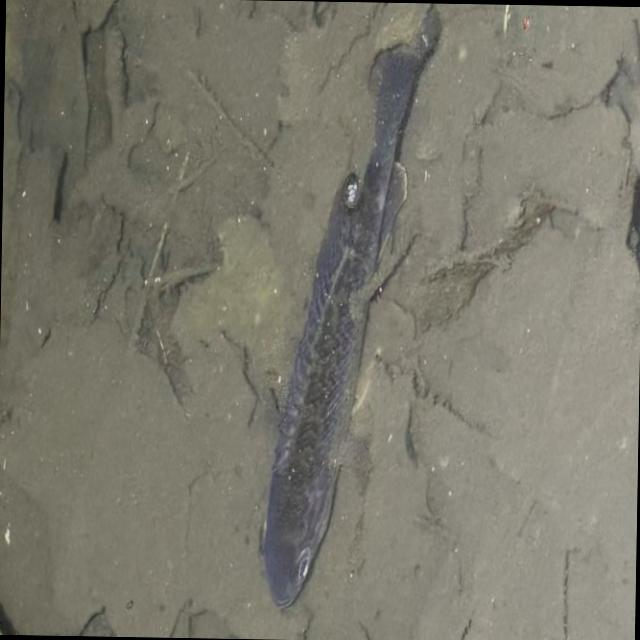Gunes Levregi: (250, 20, 440, 622)
